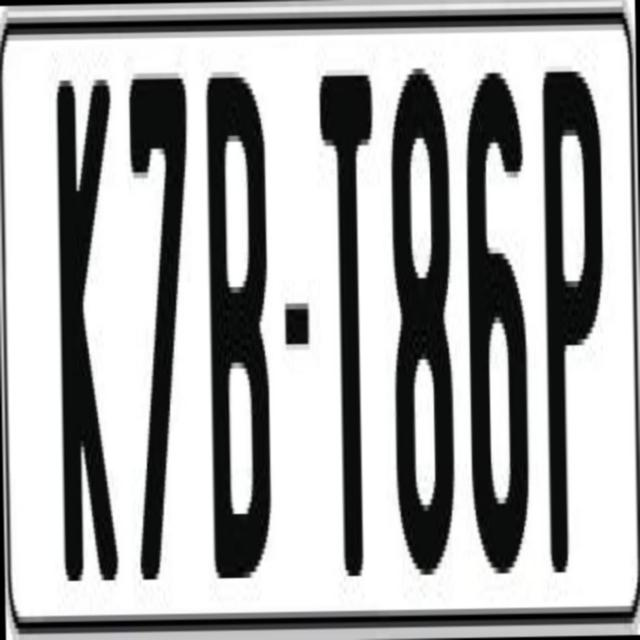6: (464, 54, 530, 574)
7: (125, 72, 193, 609)
8: (389, 61, 465, 604)
B: (202, 59, 278, 596)
K: (52, 62, 122, 592)
P: (541, 59, 614, 584)
T: (314, 57, 384, 582)
